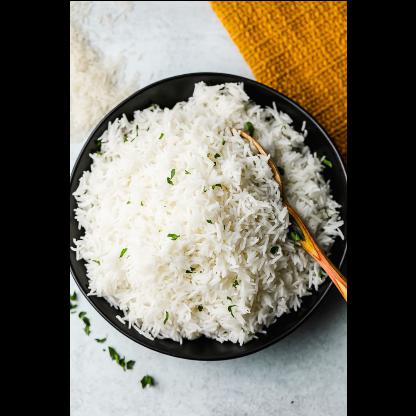white rice: (71, 81, 345, 342)
